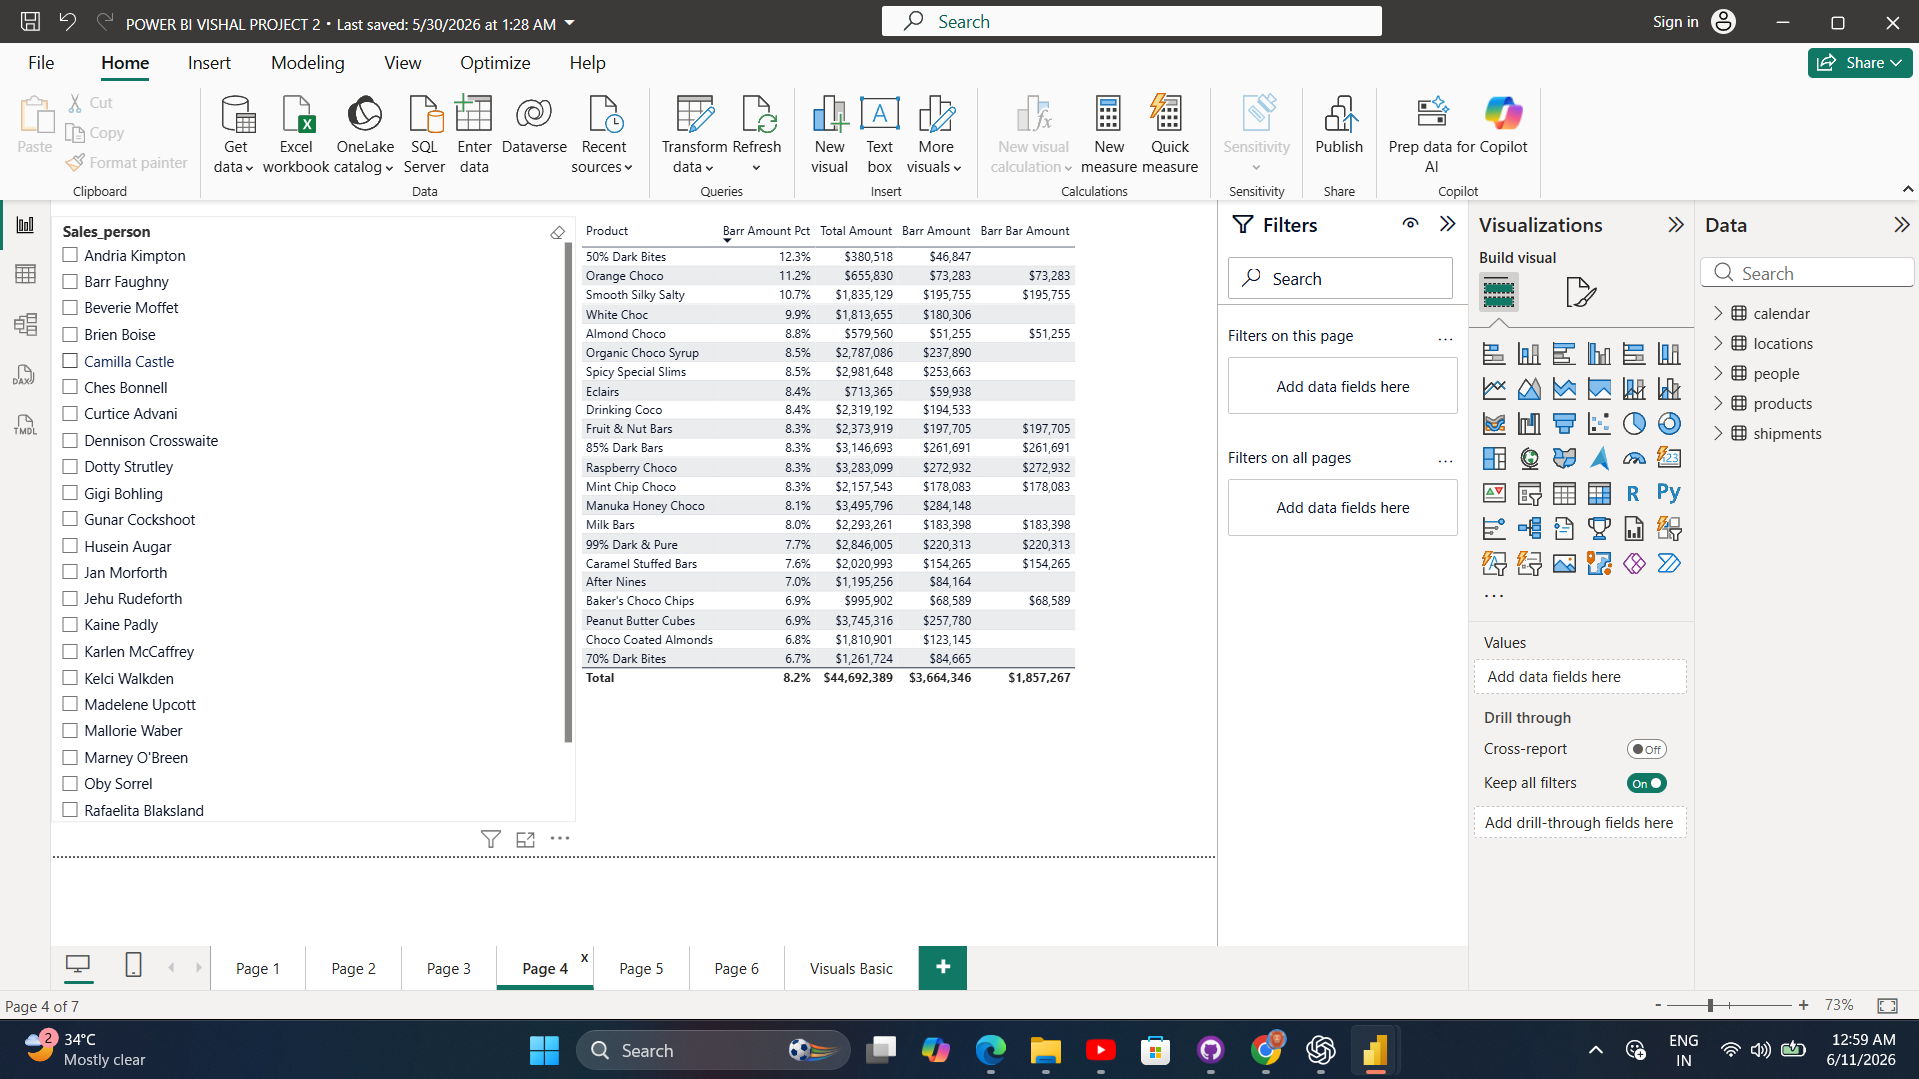

This screenshot's page, from the dashboard's own definition file:
{"tool":"powerbi","page":{"name":"Page 4","canvas":[1280,720],"ordinal":3},"visuals":[{"type":"tableEx","fields":{"Values":["products.Product","shipments.Barr Amount Pct","shipments.Total Amount","shipments.Barr Amount","shipments.Barr Bar Amount"]},"box":[576.6,18,661.4,665.4],"z":0},{"type":"slicer","fields":{"Values":["people.Sales_person"]},"box":[0,18,577,665],"z":1000}]}

Visuals, with their boxes on the page's 1280x720 design canvas (x1, y1, x2, y2). These are canvas units, not pixel positions in the 1919x1079 screenshot, which may show the page scaled, cropped or inside an application window:
tableEx - products.Product x shipments.Barr Amount Pct: rect(577, 18, 1238, 683)
slicer - people.Sales_person: rect(0, 18, 577, 683)
